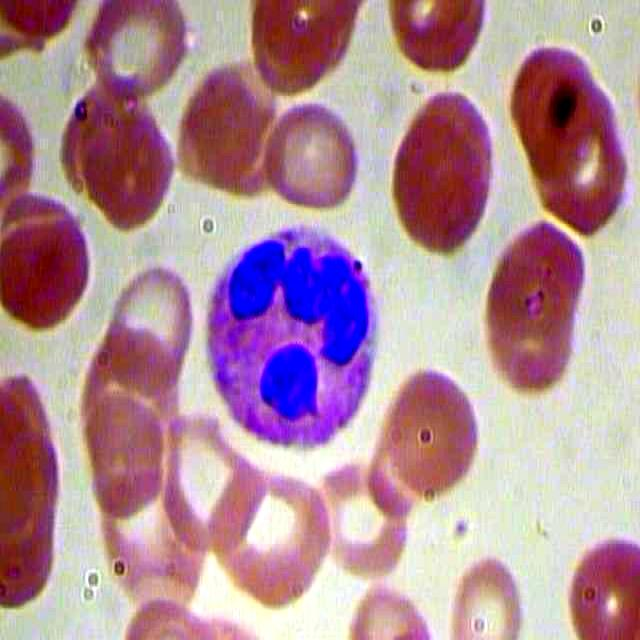RBC: (483, 208, 587, 404), (385, 88, 502, 255), (203, 467, 334, 608), (139, 405, 265, 551), (506, 28, 606, 176), (1, 190, 100, 338), (380, 359, 480, 496), (80, 1, 192, 108), (261, 98, 367, 210), (100, 264, 206, 376), (318, 451, 406, 577), (566, 522, 640, 640), (447, 546, 522, 640)
WBC: (188, 220, 387, 453)
